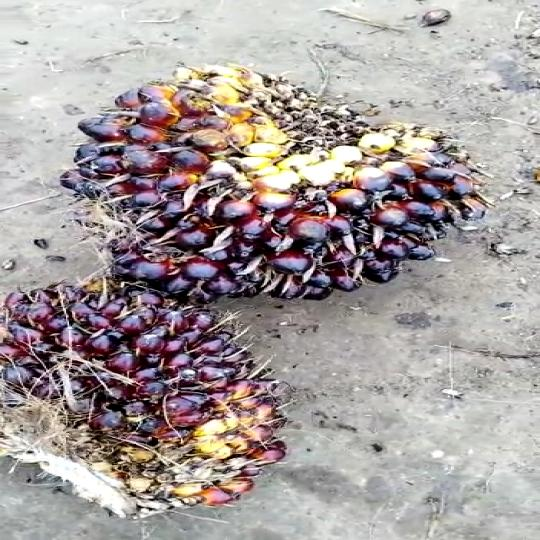kurang masak: (50, 70, 504, 323), (0, 284, 322, 513)
